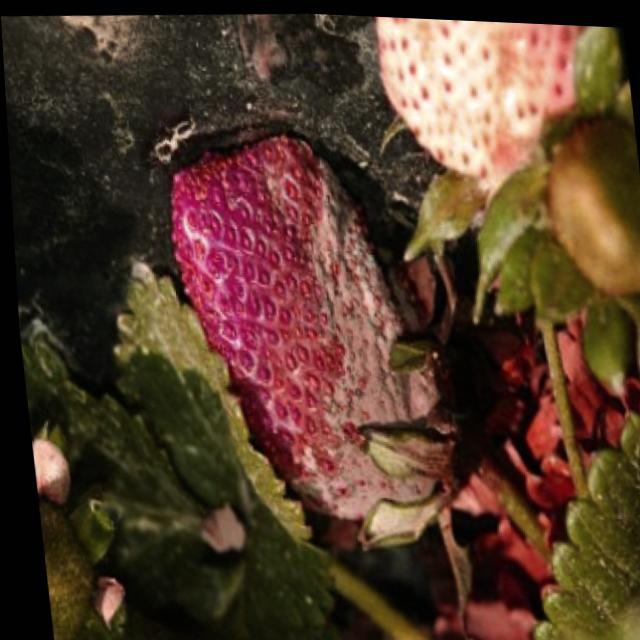Gray Mold: (165, 131, 452, 549)
